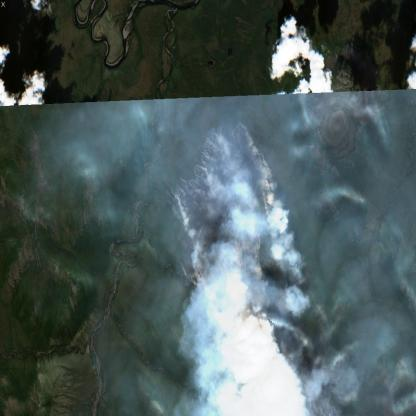fire: (162, 114, 282, 292)
